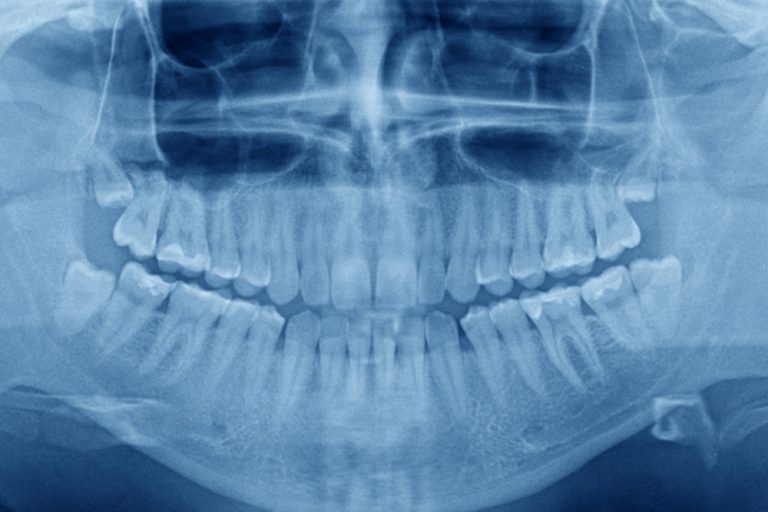canine: (424, 307, 465, 447), (281, 310, 325, 440), (262, 162, 300, 303), (445, 167, 481, 301)
incisor: (369, 147, 417, 310), (328, 167, 369, 314), (296, 183, 336, 305), (411, 181, 446, 305), (395, 305, 430, 427), (317, 311, 354, 417), (368, 313, 401, 417), (345, 313, 374, 413)
molar: (516, 277, 612, 383), (155, 274, 218, 400), (105, 252, 167, 377), (50, 249, 109, 367), (536, 164, 599, 274), (111, 155, 173, 265), (160, 158, 211, 287), (574, 265, 653, 347), (585, 171, 652, 259), (630, 259, 686, 337), (87, 150, 132, 213)
premolar: (473, 151, 516, 297), (488, 293, 545, 402), (245, 304, 290, 434), (199, 164, 245, 287), (505, 150, 546, 287), (211, 289, 250, 426), (234, 178, 275, 298), (459, 306, 506, 408)
